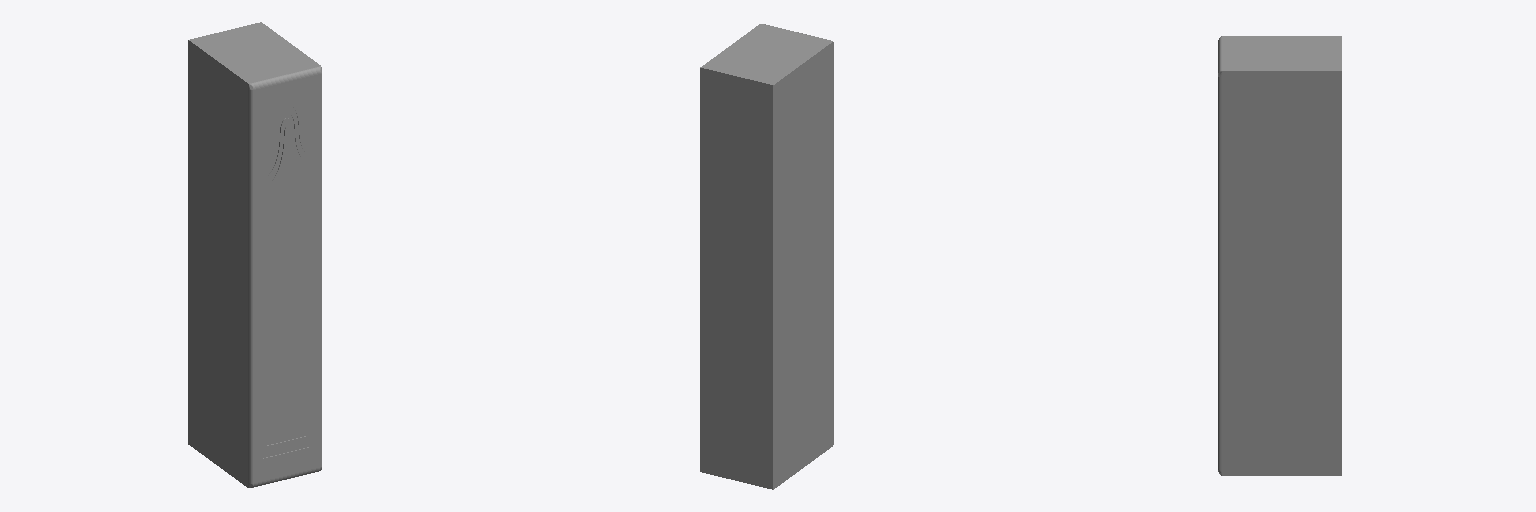
Rendered from larder-unit-400.obj.
3 views of the same model, side by side, from view 1: azimuth 30°, elevation 25°; view 2: azimuth 150°, elevation 25°; view 3: azimuth 270°, elevation 25° (orthographic).
Visible parts, largest first — view 1: Cube.003_Cube.008, Cube.002_Cube.004, Cube_Cube.002; view 2: Cube_Cube.002, Cube.002_Cube.004, Cube.001_Cube.003; view 3: Cube.001_Cube.003, Cube_Cube.002, Cube.003_Cube.008.
Part boxes in pixels (x1,y1,x2,y2): Cube.003_Cube.008: (248, 66, 321, 487); Cube.002_Cube.004: (188, 39, 249, 487); Cube_Cube.002: (192, 23, 318, 82); Cube_Cube.002: (703, 24, 829, 488); Cube.002_Cube.004: (771, 41, 832, 489); Cube.001_Cube.003: (700, 24, 762, 472); Cube.001_Cube.003: (1222, 70, 1341, 475); Cube_Cube.002: (1222, 37, 1341, 69); Cube.003_Cube.008: (1218, 36, 1221, 475).
Bounding box in the file's own units: 80 × 424 × 118.